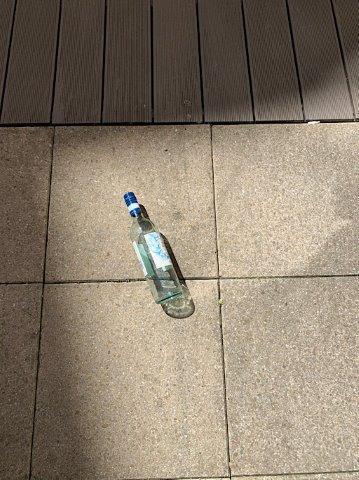botolkaca: (123, 191, 184, 305)
